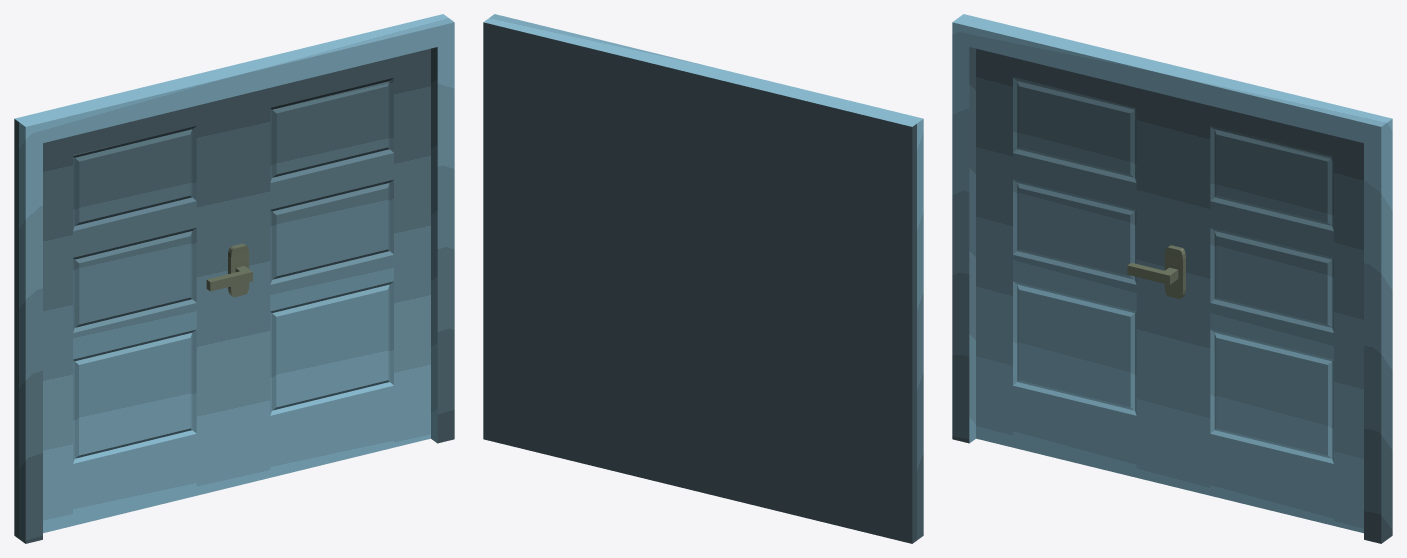
The model's file is door.glb.
The picture shows the model from 3 angles, left to right: view 1: azimuth 30°, elevation 25°; view 2: azimuth 150°, elevation 25°; view 3: azimuth 330°, elevation 25°; orthographic projection.
Visible parts, largest first — view 1: Door.003, Plane.005, Door.004; view 2: Door.003; view 3: Door.003, Plane.005, Door.004.
Boxes of the visible parts, x1=… form: Door.003: x1=14, y1=14, x2=454, y2=543; Plane.005: x1=228, y1=243, x2=249, y2=297; Door.004: x1=206, y1=266, x2=252, y2=291; Door.003: x1=483, y1=14, x2=923, y2=543; Door.003: x1=952, y1=14, x2=1392, y2=543; Plane.005: x1=1164, y1=245, x2=1185, y2=298; Door.004: x1=1127, y1=262, x2=1178, y2=284.
Bounding box in the file's own units: 7.4 × 6.87 × 0.4838.
1 material, 1 textured.
